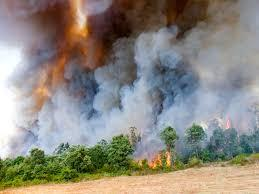fire: (134, 150, 177, 168)
smoke: (1, 0, 259, 156)
